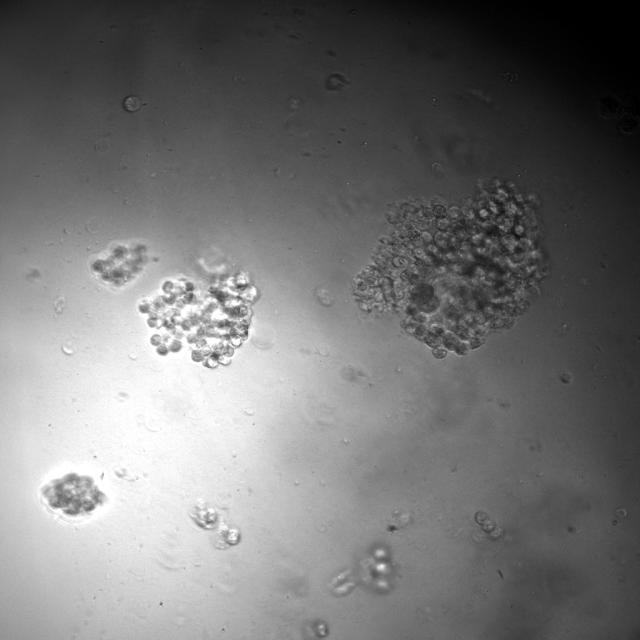organoid: (353, 180, 545, 356), (138, 271, 257, 368), (328, 543, 395, 596), (89, 240, 148, 289), (43, 472, 104, 515), (190, 499, 239, 549), (475, 510, 502, 539), (302, 618, 329, 639), (314, 284, 336, 306), (325, 73, 349, 90), (123, 95, 141, 111), (559, 372, 573, 383), (615, 508, 627, 519), (612, 519, 618, 525)
